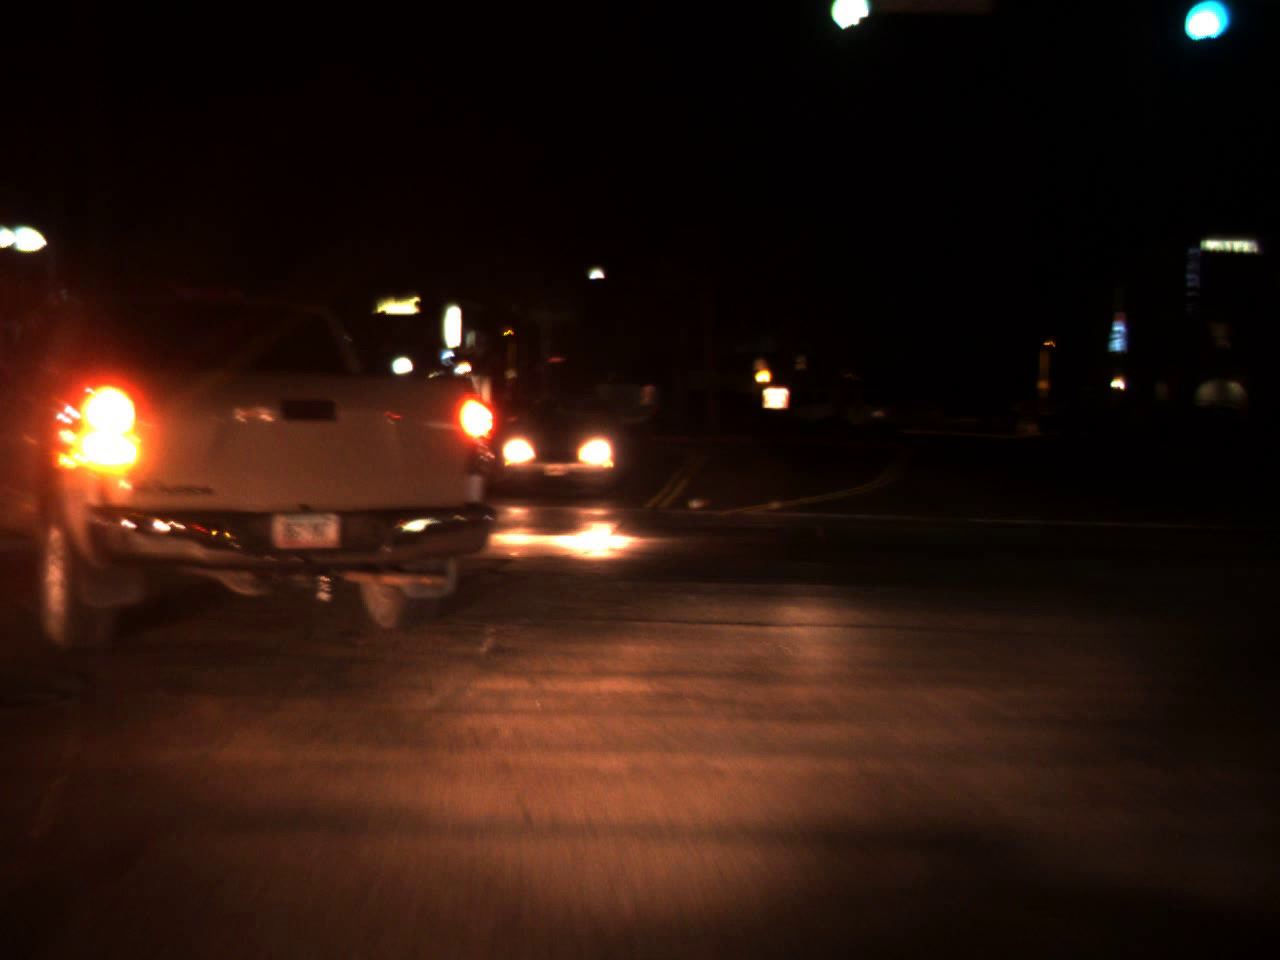go: (812, 0, 878, 34), (1180, 0, 1223, 49)
